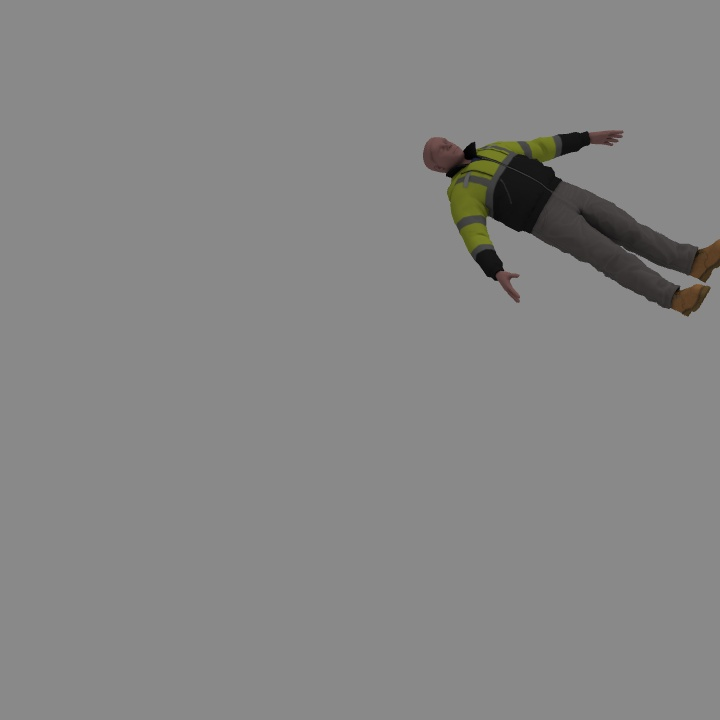victim: (427, 130, 720, 310)
